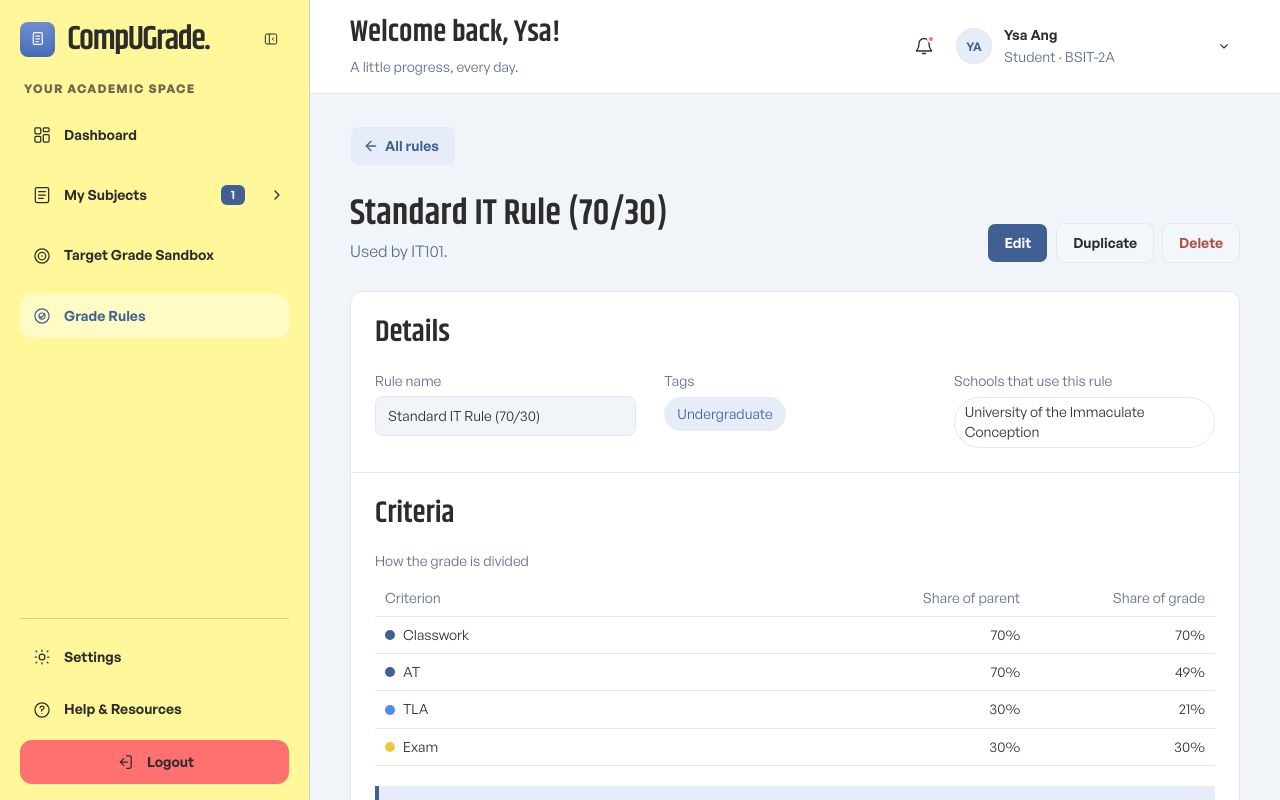
it: a failed Duplicate › says why when the rule was deleted elsewhere
The width and height of the screenshot is (1280, 800).
Click the button "Duplicate": (1105, 243) [1056,223,1154,263]
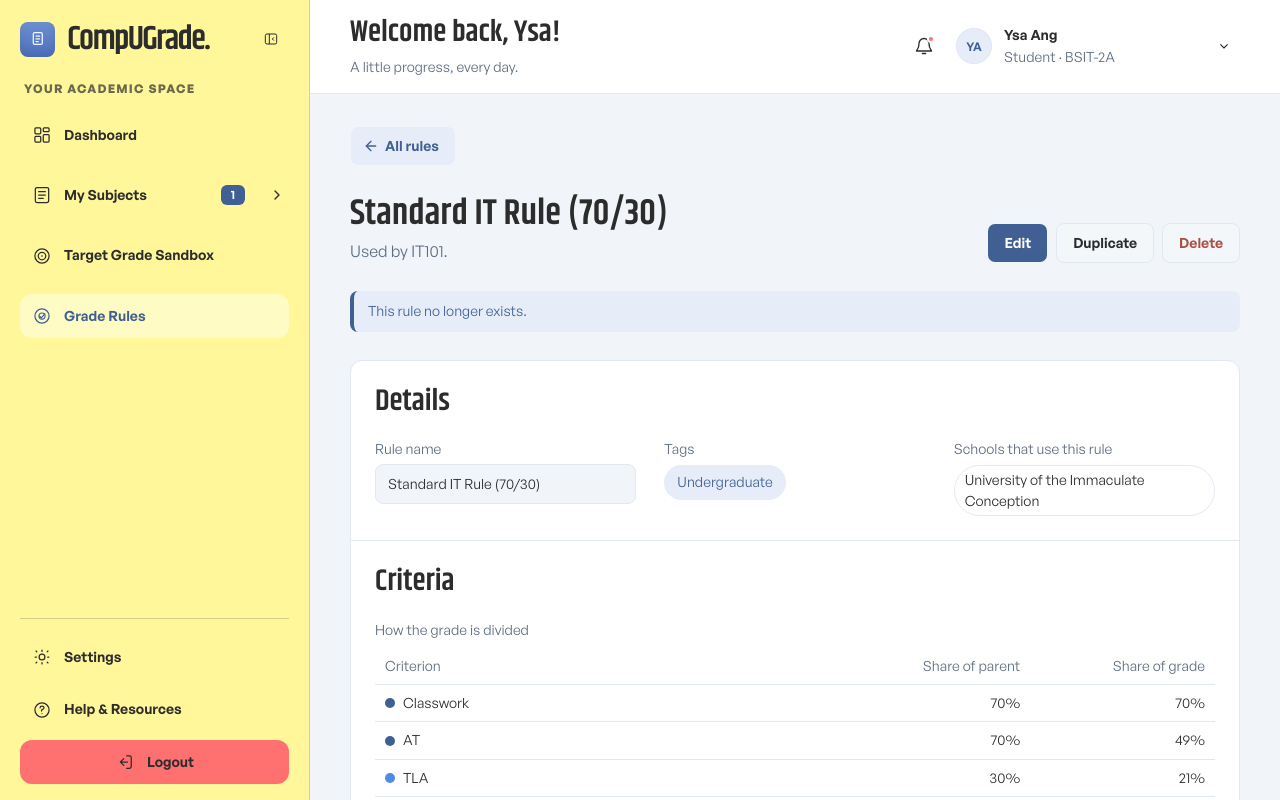
Now the message reads "This rule no longer exists.", box [368,302,527,319]
